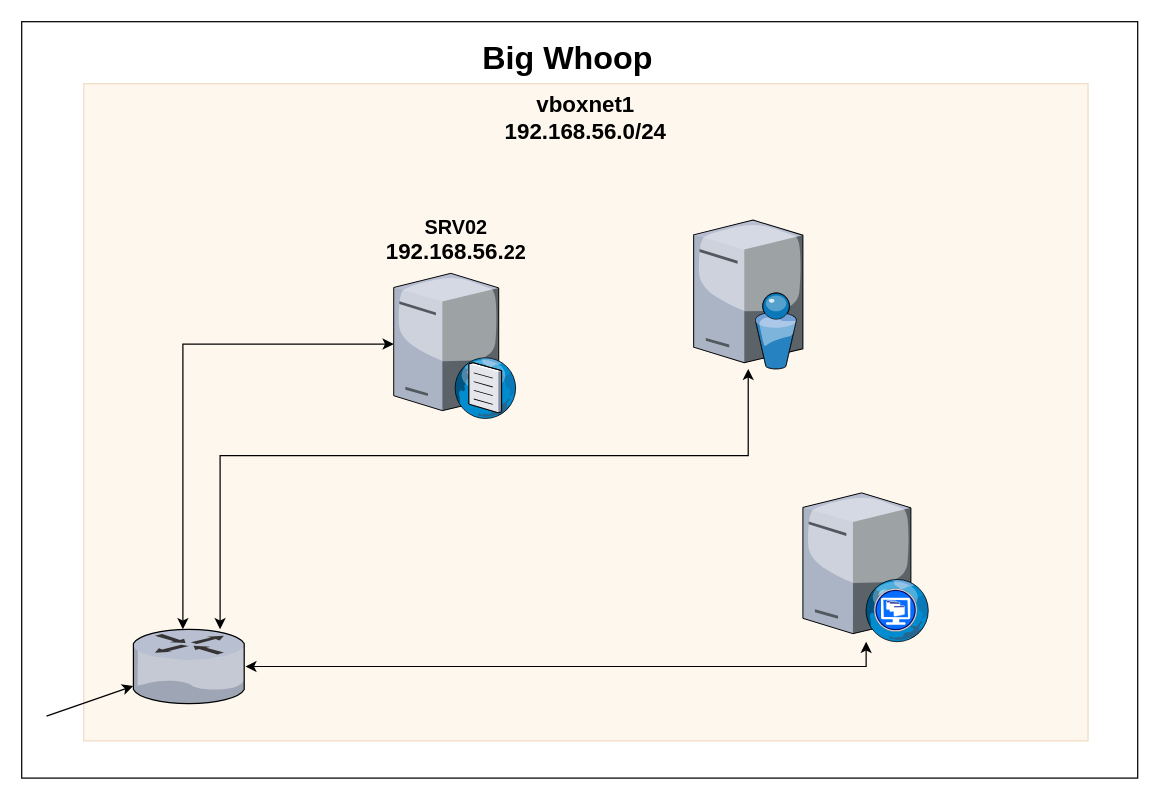
Some shapes in this 1159 by 800 pixel diagram are drawn without their labels. The centre of each missing label's shape, as x and y in pixels:
"DC01 192.168.56. 10" goes at (x=747, y=294).
"SRV01 192.168.56. 21" goes at (x=865, y=566).
